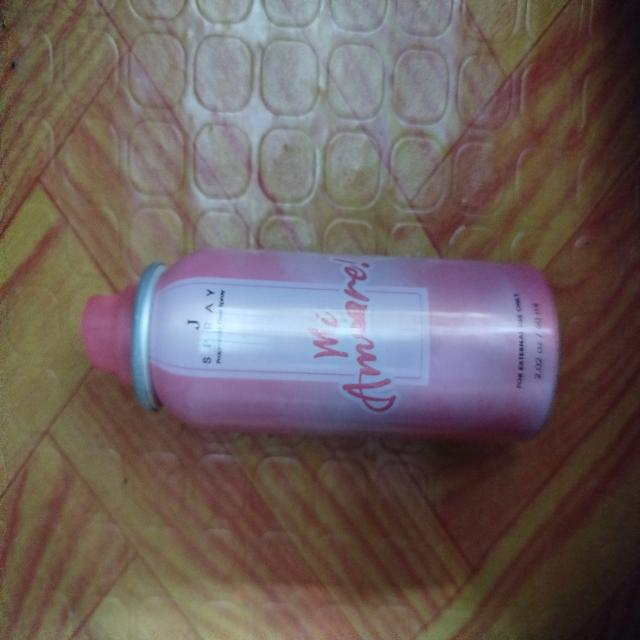metal: (68, 241, 568, 460)
